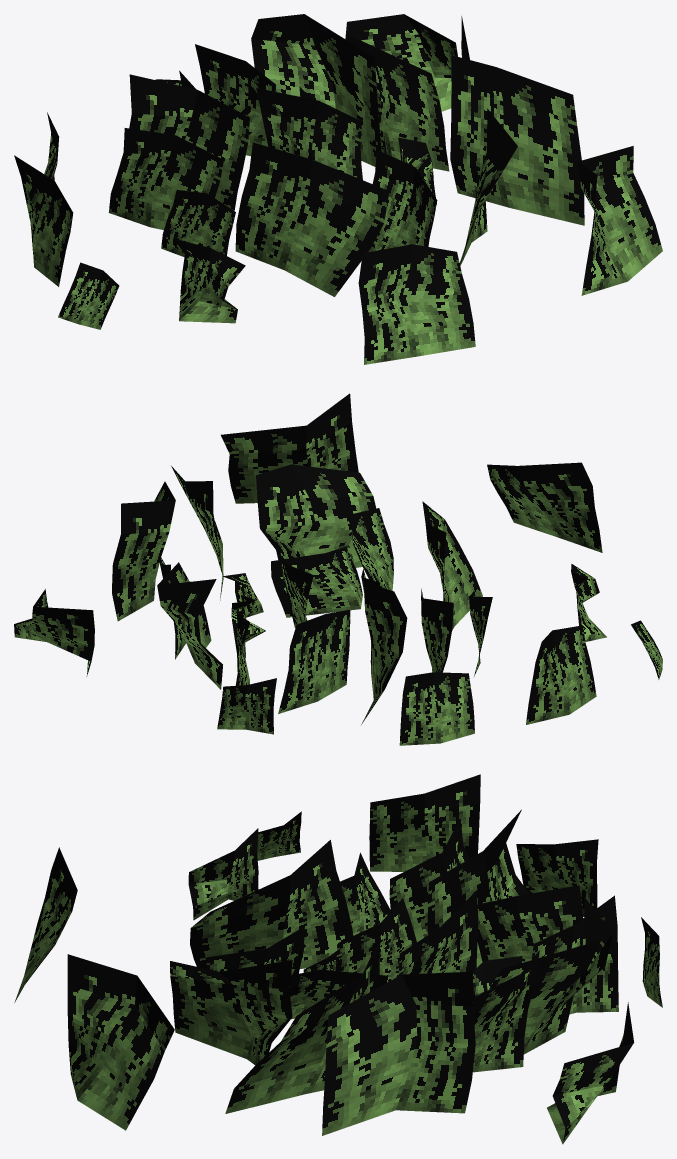
Rendered from grassblades.obj.
3 renders of one model, top to bottom at view 1: azimuth 30°, elevation 25°; view 2: azimuth 150°, elevation 25°; view 3: azimuth 270°, elevation 25°, orthographic. The views are drawn at different scales.
Parts seen in each view (by area): view 1: grassblades; view 2: grassblades; view 3: grassblades.
Part boxes in pixels (<box>): grassblades: <box>14,14,662,364</box>; grassblades: <box>14,393,662,745</box>; grassblades: <box>14,774,662,1144</box>.
Bounding box in the file's own units: 9.9 × 2.28 × 9.33.
